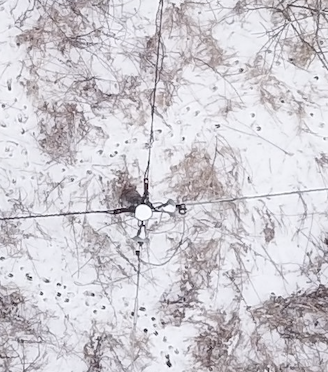pole: (76, 134, 218, 270)
